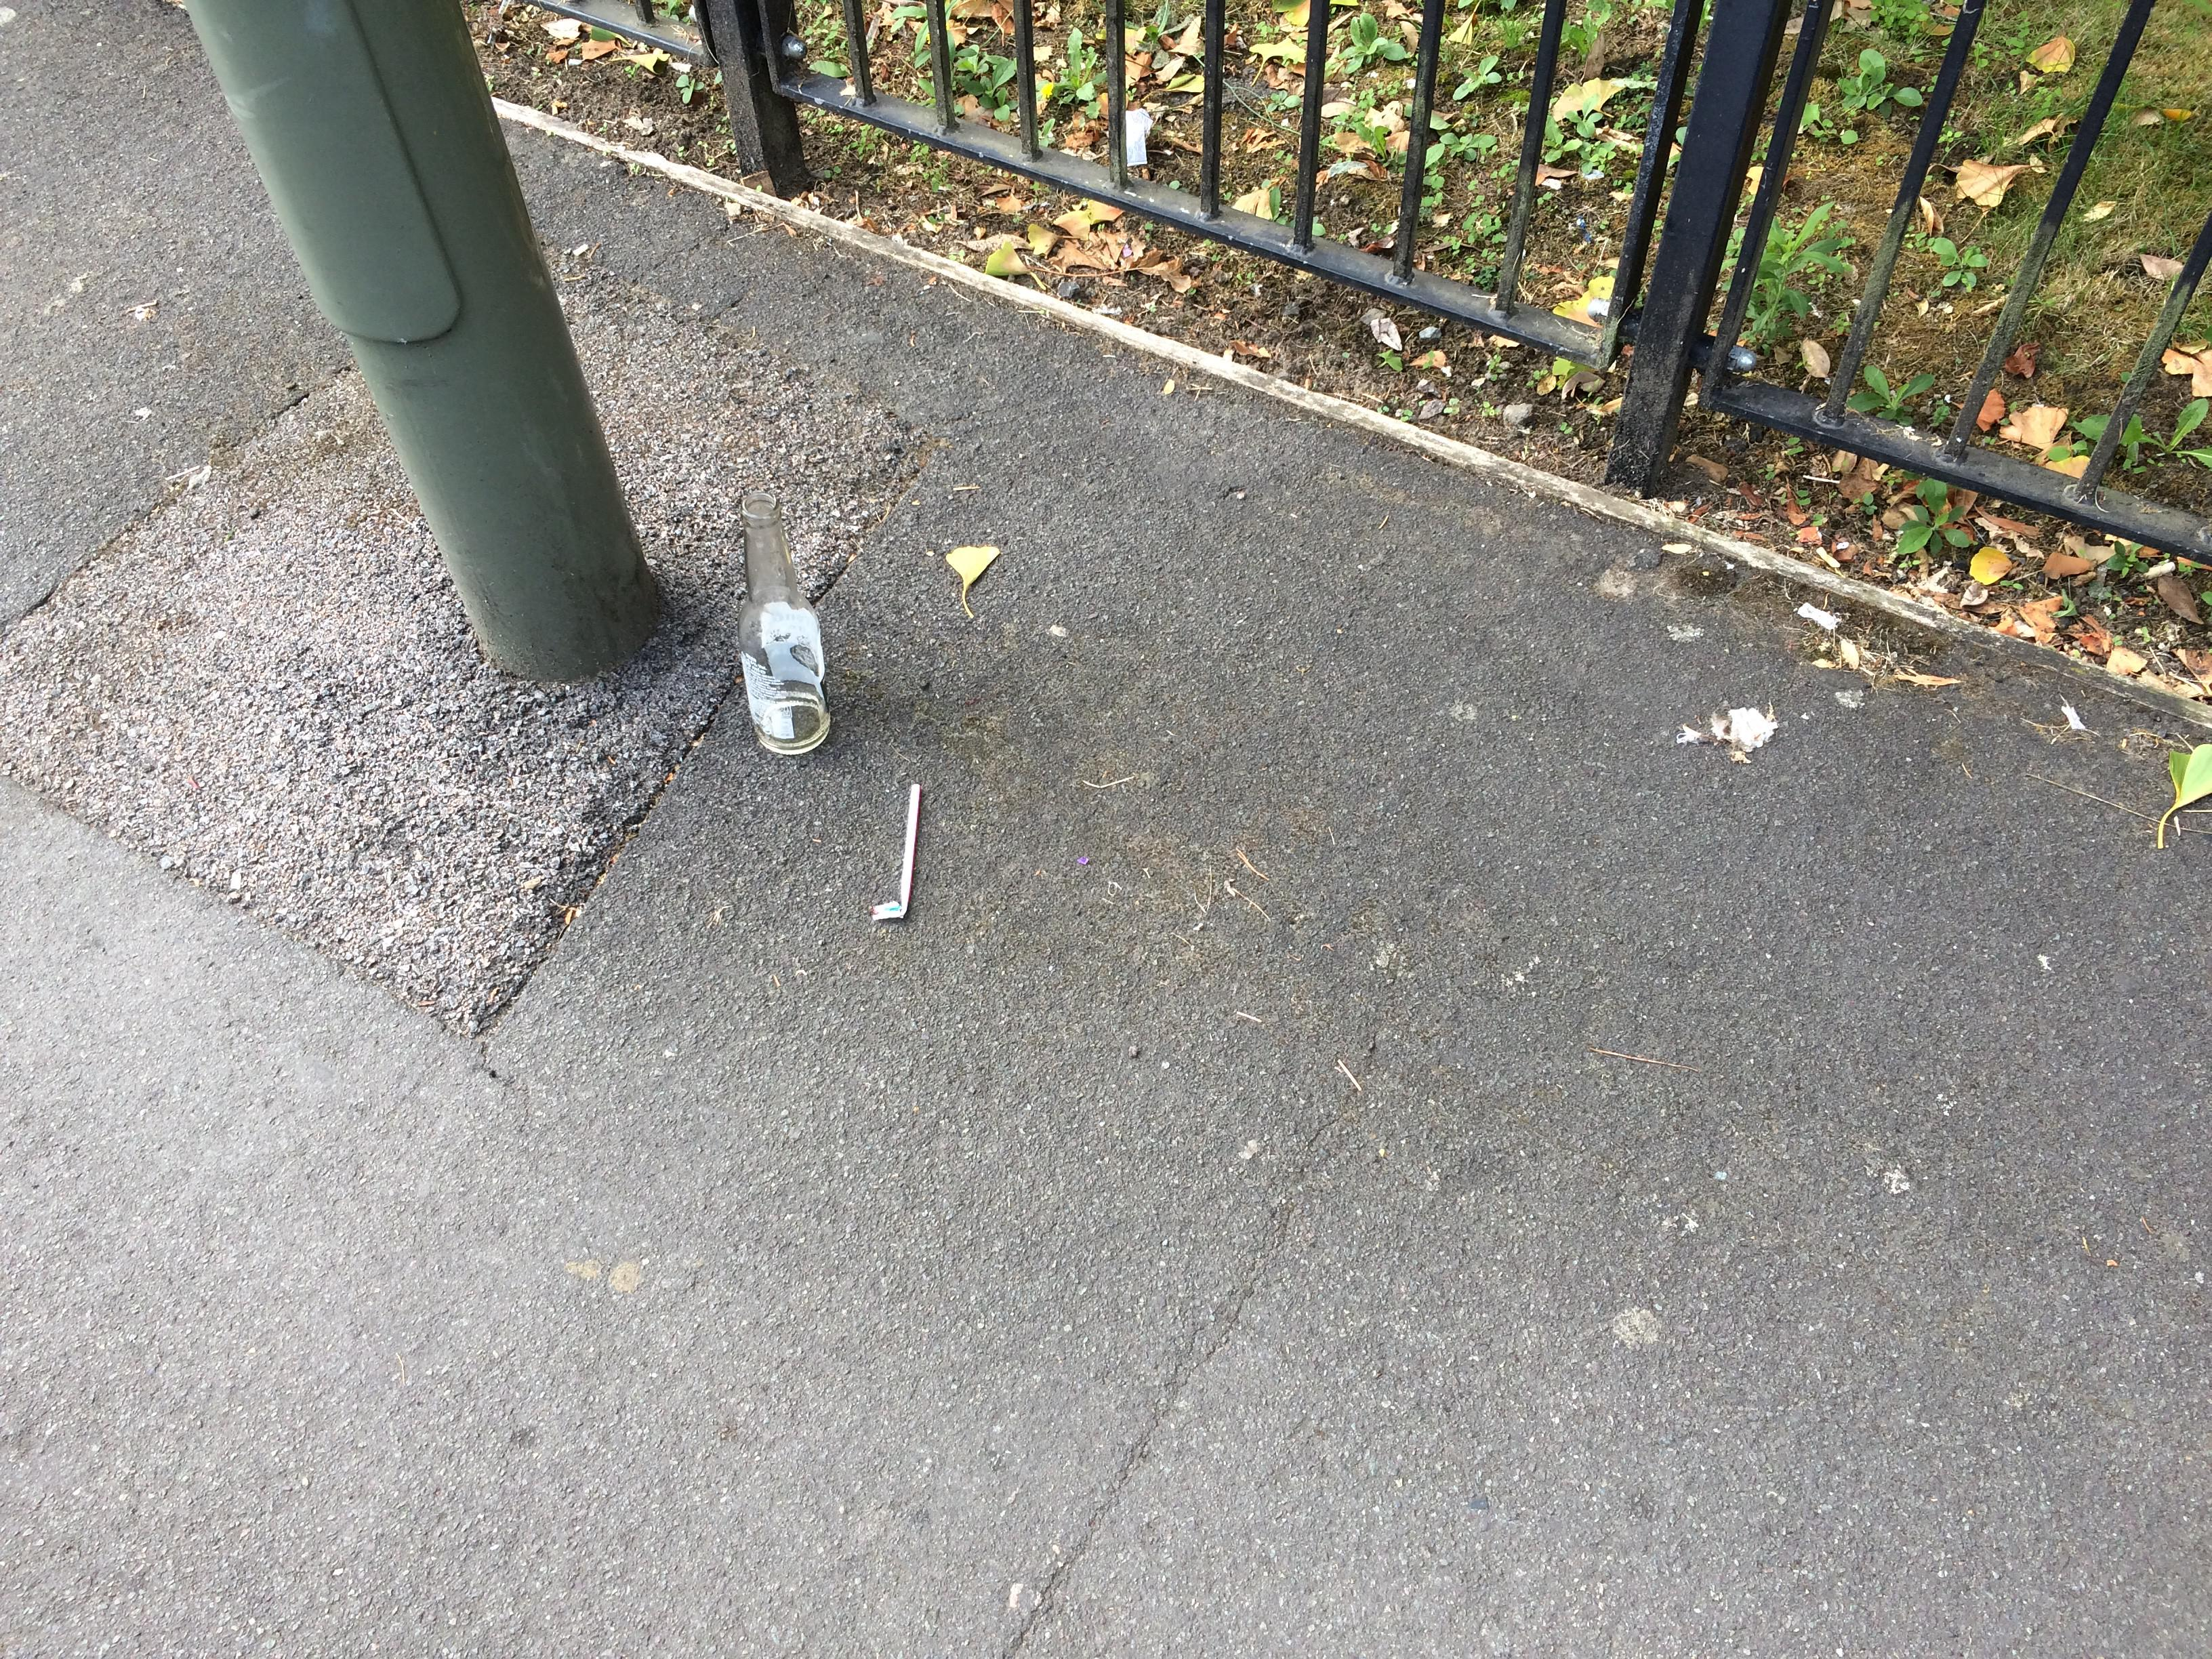Trash: (714, 484, 841, 755), (883, 772, 925, 918)
